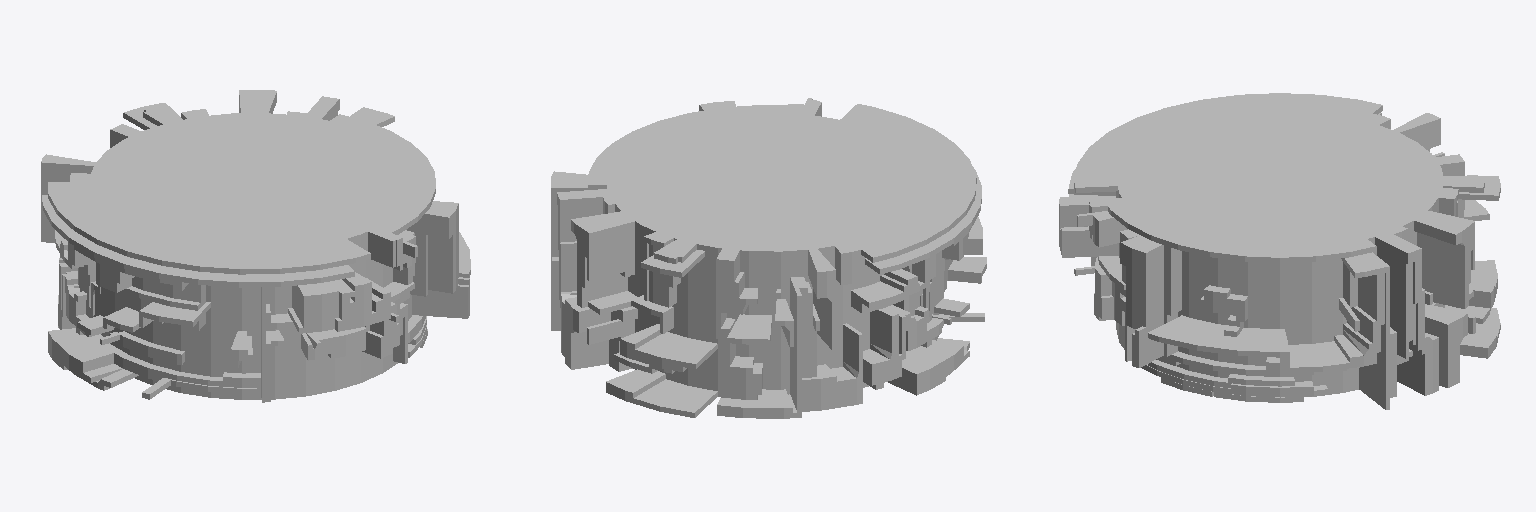
The model's file is Wacky Cylinder.obj.
The picture shows the model from 3 angles: view 1: azimuth 30°, elevation 25°; view 2: azimuth 150°, elevation 25°; view 3: azimuth 270°, elevation 25°; orthographic projection.
Visible parts, largest first — view 1: Cylinder_RLExtr, Cylinder; view 2: Cylinder_RLExtr, Cylinder; view 3: Cylinder_RLExtr, Cylinder.
Part boxes in pixels (x1,y1,x2,y2): Cylinder_RLExtr: (41, 90, 470, 402); Cylinder: (89, 113, 416, 399); Cylinder_RLExtr: (551, 98, 986, 418); Cylinder: (607, 113, 933, 396); Cylinder_RLExtr: (1059, 93, 1500, 409); Cylinder: (1116, 111, 1443, 396).
Size of the model in its own units: 5.25 by 2 by 5.39.